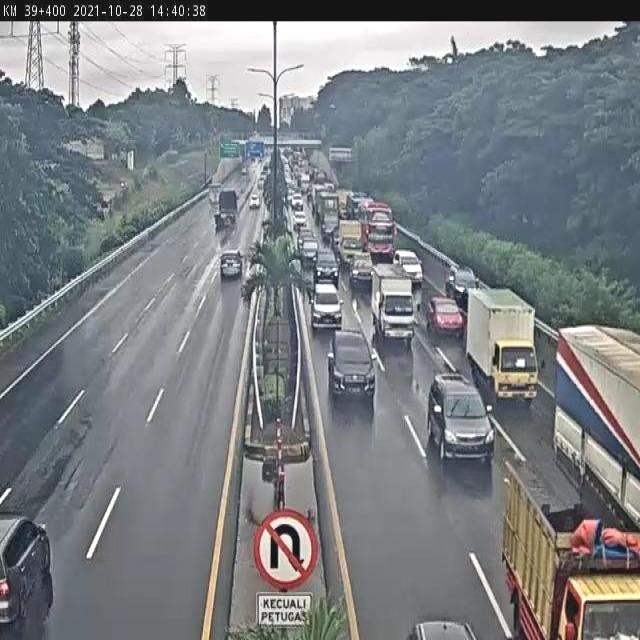Bus: (360, 201, 398, 262)
Car: (429, 374, 495, 468), (327, 330, 377, 410), (426, 296, 466, 340), (310, 282, 343, 330), (446, 266, 478, 309), (391, 249, 424, 287), (349, 256, 375, 292), (314, 248, 339, 284), (220, 250, 243, 279), (299, 238, 319, 267), (293, 210, 307, 228), (291, 192, 304, 211), (249, 194, 260, 209), (258, 177, 265, 190)
Truck: (499, 462, 640, 640), (554, 321, 640, 527), (464, 288, 538, 409), (372, 262, 424, 345), (337, 218, 365, 266), (212, 189, 238, 233)
